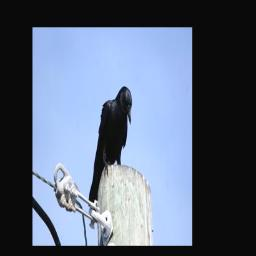Crow: (89, 85, 133, 208)
